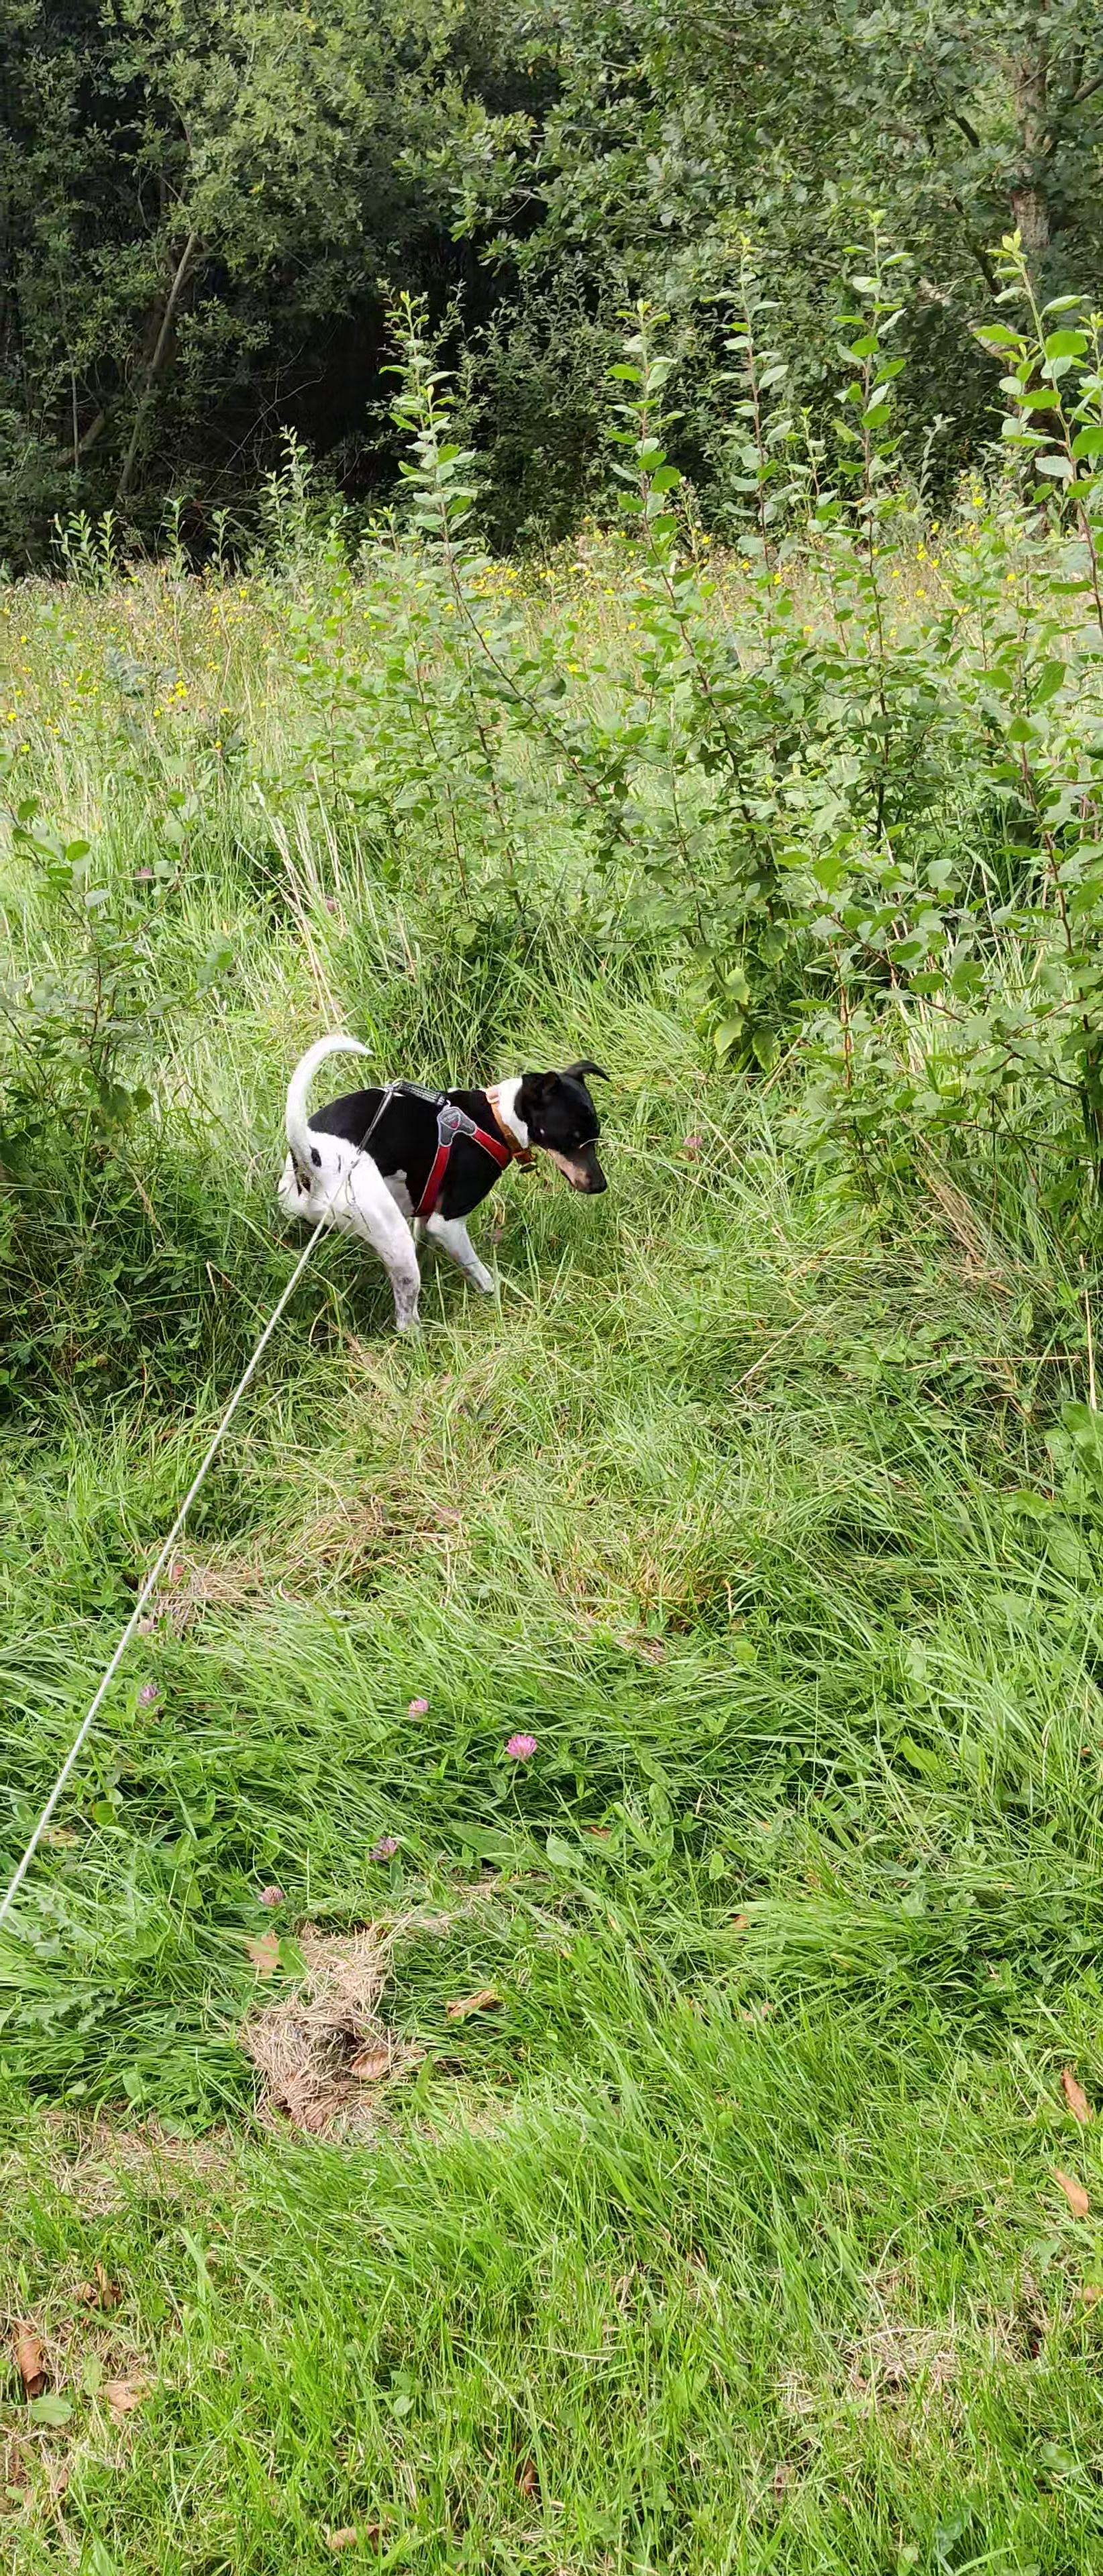Dog: (270, 1027, 616, 1342)
